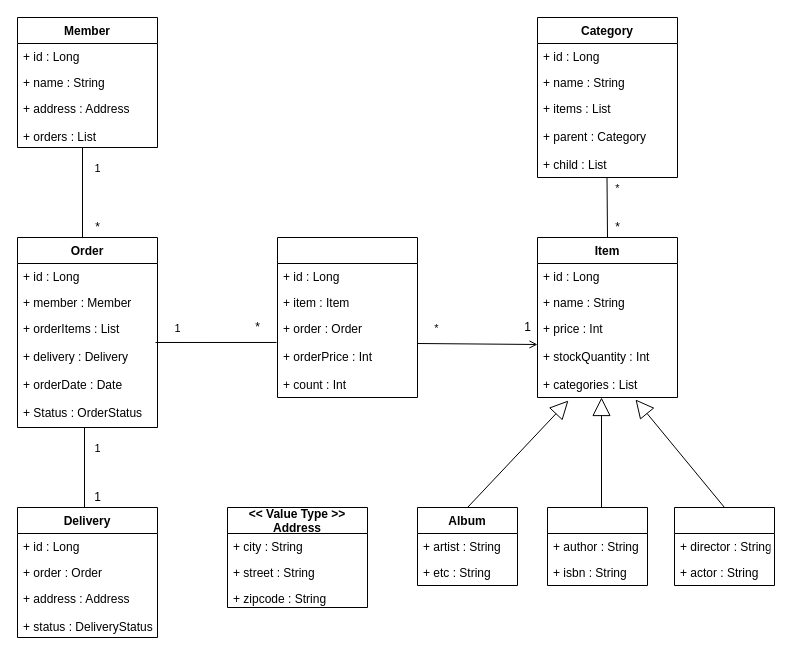
The diagram is 792 pixels wide and 658 high, and some of its shapes have lost their labels. The box of each missing label's shape, as (x1, y1, x2, y2) in pixels:
Book: (546, 506, 648, 586)
Movie: (674, 506, 774, 586)
OrderItem: (276, 236, 418, 398)
